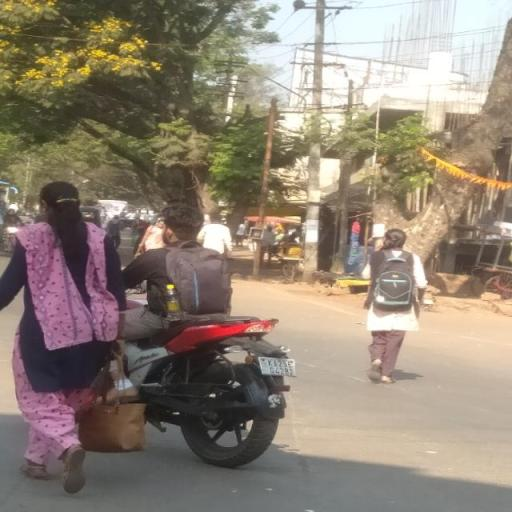bike: (113, 195, 305, 469)
numberplate: (260, 359, 300, 378)
withouthelmet: (162, 200, 200, 246)
